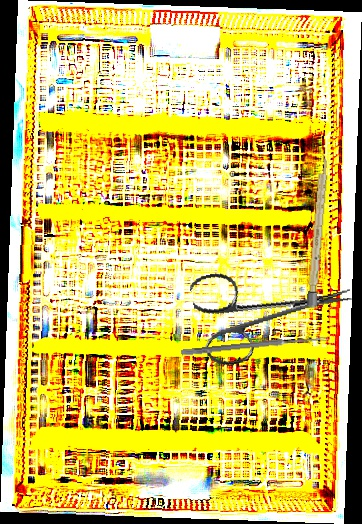Iris Scissors: (188, 246, 360, 371)
Scalpel Handle: (306, 153, 330, 309)
Surgical Spoon: (181, 334, 328, 357)
